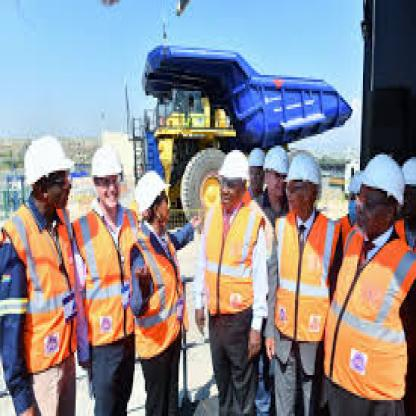person: (325, 132, 415, 414), (0, 127, 76, 414), (198, 132, 266, 414), (72, 132, 134, 414), (269, 141, 327, 414), (127, 152, 182, 412)
